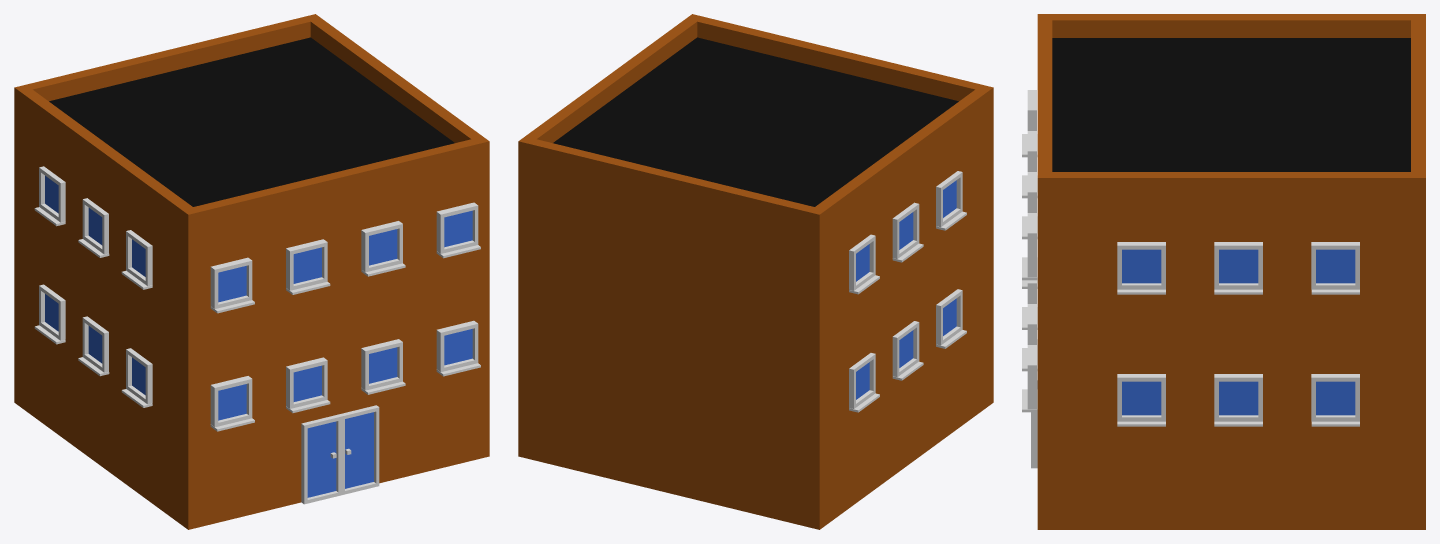
Rendered from bolk1.fbx.
3 views of the same model, side by side, from view 1: azimuth 30°, elevation 25°; view 2: azimuth 150°, elevation 25°; view 3: azimuth 270°, elevation 25° (orthographic). The views are drawn at different scales.
Visible parts, largest first — view 1: Cube, Cube.021, Cube.005, Cube.008, Cube.001, Cube.004, Cube.002, Cube.003, Cube.006, Cube.007, Cube.017, Cube.012 (+4 smaller); view 2: Cube, Cube.019, Cube.016, Cube.017, Cube.018, Cube.020, Cube.012; view 3: Cube, Cube.009, Cube.010, Cube.011, Cube.013, Cube.014, Cube.015, Cube.001, Cube.005, Cube.002, Cube.006, Cube.007 (+2 smaller).
Boxes of the visible parts, x1,y1,x2,y2 form: Cube: [14, 14, 489, 529]; Cube.021: [301, 405, 379, 504]; Cube.005: [436, 202, 480, 258]; Cube.008: [210, 257, 254, 313]; Cube.001: [436, 320, 480, 376]; Cube.004: [210, 376, 254, 431]; Cube.002: [361, 339, 405, 394]; Cube.003: [286, 357, 330, 413]; Cube.006: [361, 221, 405, 276]; Cube.007: [286, 239, 330, 294]; Cube.017: [34, 284, 65, 344]; Cube.012: [121, 348, 152, 407]; Cube: [518, 14, 993, 529]; Cube.019: [892, 202, 923, 262]; Cube.016: [892, 321, 923, 380]; Cube.017: [849, 353, 879, 412]; Cube.018: [936, 171, 966, 230]; Cube.020: [849, 234, 879, 294]; Cube.012: [936, 289, 966, 348]; Cube: [1037, 14, 1425, 529]; Cube.009: [1311, 374, 1359, 426]; Cube.010: [1214, 374, 1262, 426]; Cube.011: [1117, 374, 1165, 426]; Cube.013: [1311, 242, 1359, 294]; Cube.014: [1214, 242, 1262, 294]; Cube.015: [1117, 242, 1165, 294]; Cube.001: [1022, 345, 1037, 412]; Cube.005: [1022, 213, 1037, 280]; Cube.002: [1022, 304, 1037, 371]; Cube.006: [1022, 172, 1037, 239]; Cube.007: [1022, 131, 1037, 198].
Size of the model in its own units: 854 by 800 by 832.
